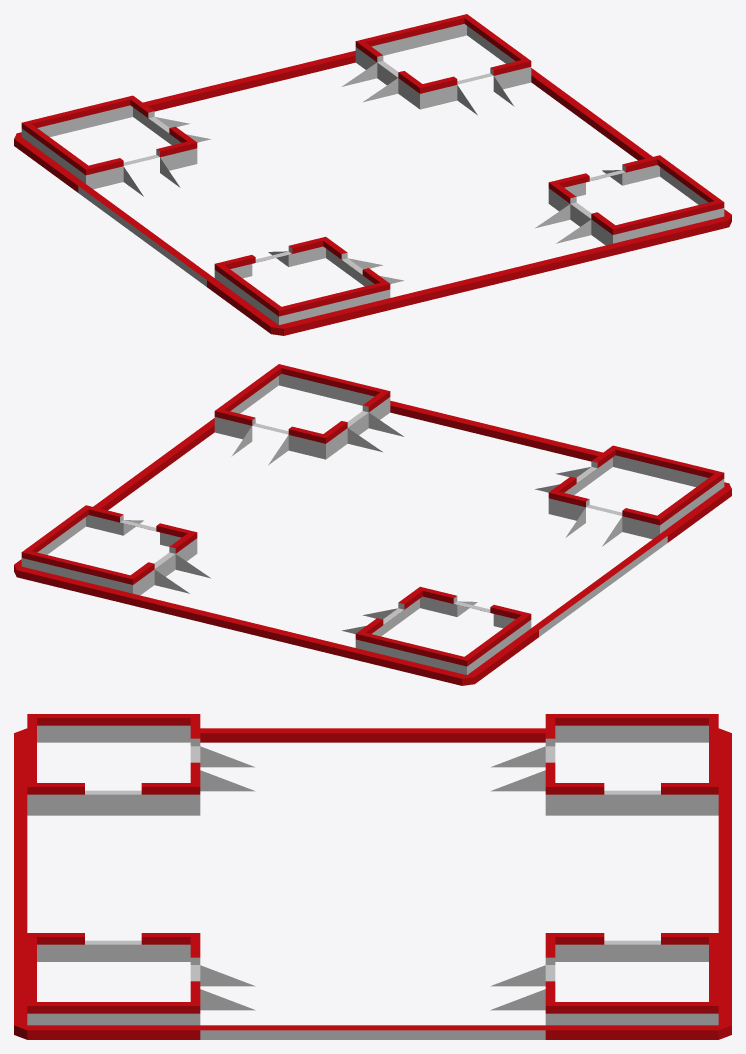
The model's file is parking_trigger.fbx.
3 renders of one model, top to bottom at view 1: azimuth 30°, elevation 25°; view 2: azimuth 150°, elevation 25°; view 3: azimuth 270°, elevation 25°, orthographic. The views are drawn at different scales.
Parts seen in each view (by area): view 1: Cube; view 2: Cube; view 3: Cube.
Part boxes in pixels (x1,y1,x2,y2): Cube: [14, 14, 731, 335]; Cube: [14, 364, 731, 685]; Cube: [14, 714, 731, 1039].
Bounding box in the file's own units: 2.07 × 0.0919 × 2.08.
